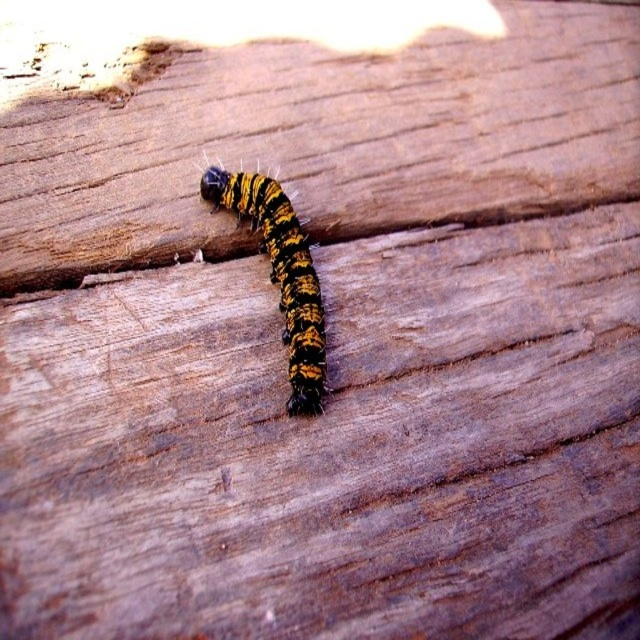Caterpillar: (192, 149, 331, 423)
